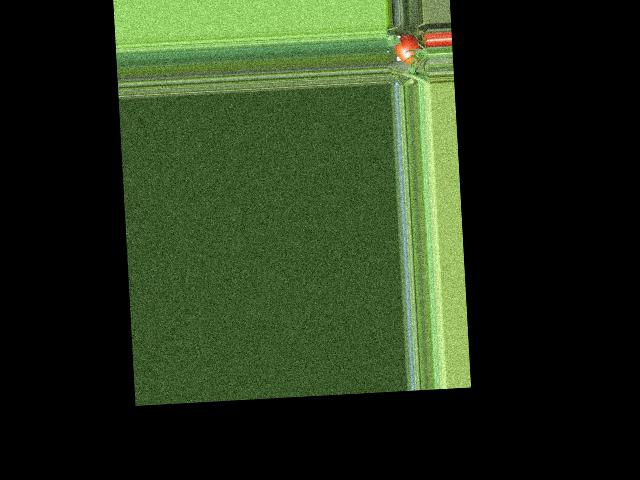tomato: (394, 33, 421, 65)
